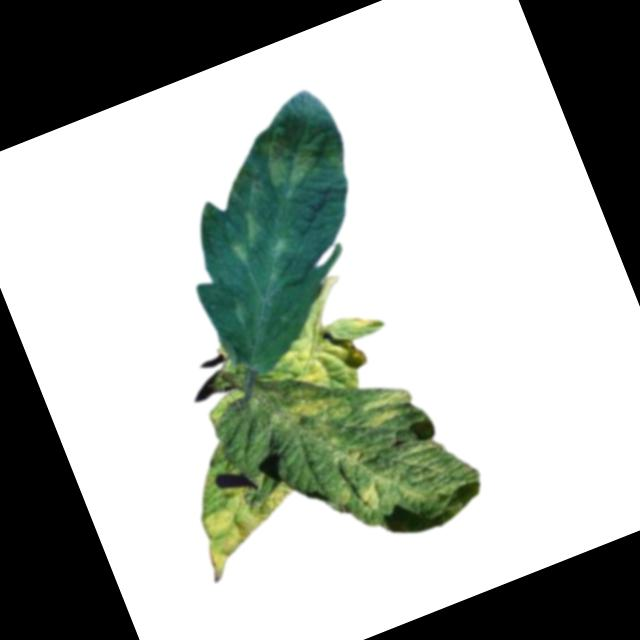Leaf_Mold: (185, 469, 316, 583), (277, 306, 397, 396), (251, 108, 340, 200), (268, 382, 352, 444), (344, 463, 407, 520), (218, 206, 271, 268), (357, 383, 420, 435), (325, 439, 371, 479)
